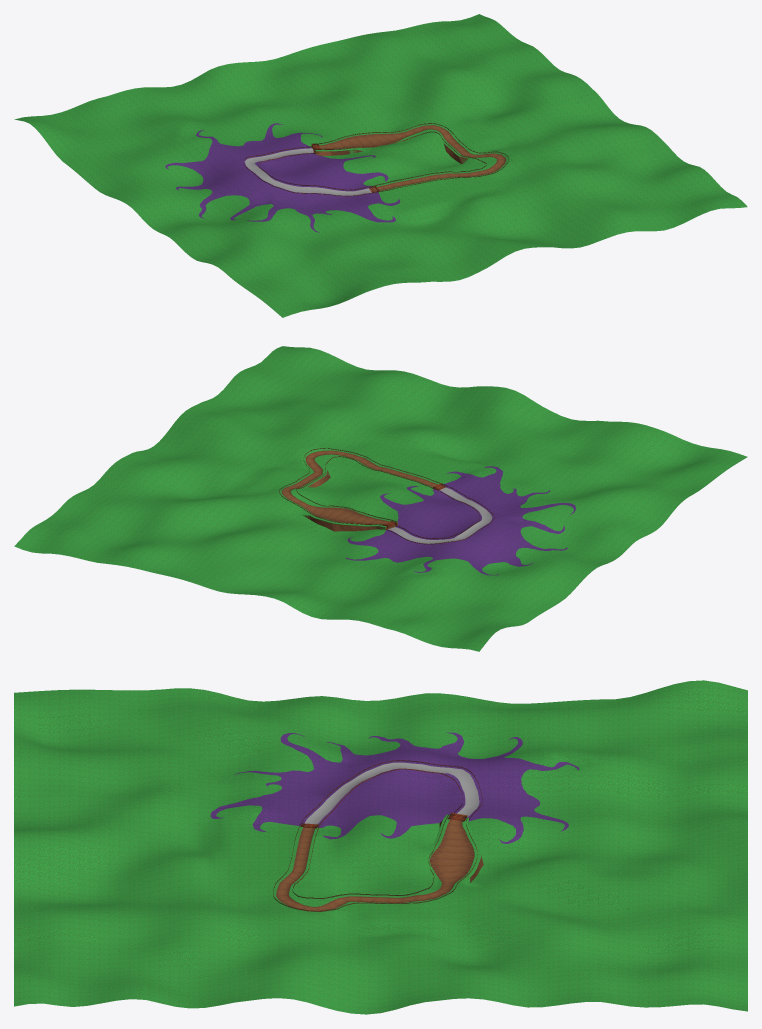
The model's file is Sjin'sFarmTest3.fbx.
3 views of the same model, one above another, from view 1: azimuth 30°, elevation 25°; view 2: azimuth 150°, elevation 25°; view 3: azimuth 270°, elevation 25° (orthographic). The views are drawn at different scales.
Parts seen in each view (by area): view 1: Terrain, Road, Railing, Railing2; view 2: Terrain, Road, Railing; view 3: Terrain, Road, Railing, Railing2.
Boxes of the visible parts, box(x1,y1,x2,y2) form: Terrain: box(14, 14, 747, 317); Road: box(244, 125, 506, 195); Railing: box(243, 123, 508, 196); Railing2: box(258, 131, 486, 190); Terrain: box(14, 346, 747, 651); Road: box(281, 450, 491, 543); Railing: box(279, 448, 494, 544); Terrain: box(14, 680, 747, 1014); Road: box(275, 762, 479, 911); Railing: box(273, 760, 482, 911); Railing2: box(292, 768, 462, 898).
Bounding box in the file's own units: 13464 × 553 × 13464.
